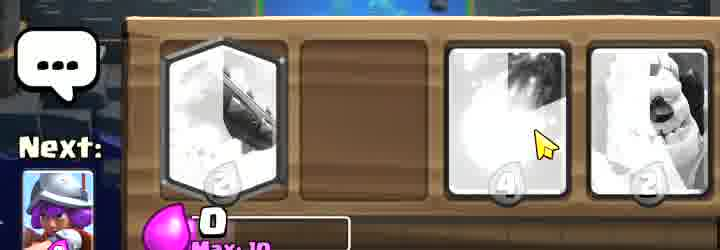musketeer: (24, 171, 93, 250)
